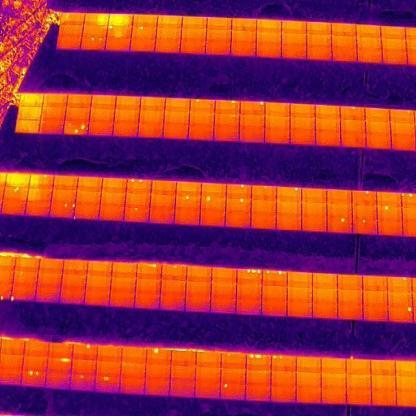Diode: (47, 358, 72, 374)
Hotspot: (221, 382, 246, 401), (124, 206, 150, 223), (352, 218, 378, 235), (272, 355, 297, 372), (96, 376, 121, 393), (176, 196, 202, 212), (136, 264, 162, 280), (160, 264, 186, 280), (262, 270, 288, 286), (388, 307, 414, 323), (221, 352, 247, 368), (73, 344, 97, 361), (277, 185, 302, 201), (3, 186, 28, 202), (247, 354, 272, 370), (346, 358, 371, 374), (240, 101, 266, 116), (352, 191, 378, 206), (237, 270, 263, 285), (386, 277, 412, 292), (50, 202, 74, 218), (22, 371, 46, 387), (71, 375, 95, 391), (127, 179, 152, 194), (226, 184, 251, 199), (226, 198, 251, 213), (75, 204, 100, 219), (190, 99, 216, 113), (390, 110, 416, 124), (63, 122, 89, 136), (251, 186, 277, 200), (126, 194, 152, 208), (200, 196, 226, 210), (376, 206, 402, 220), (326, 218, 352, 232), (12, 286, 36, 301), (80, 37, 107, 50), (215, 101, 240, 115), (340, 106, 365, 120), (146, 350, 171, 364), (131, 26, 157, 39), (30, 174, 54, 188), (214, 115, 239, 128), (107, 25, 132, 38)
Normal: (98, 204, 126, 221), (148, 208, 176, 225), (244, 384, 272, 401), (237, 284, 262, 302), (377, 219, 403, 236), (195, 382, 221, 399), (174, 210, 201, 226), (200, 210, 227, 226), (98, 344, 122, 362), (122, 346, 146, 364), (262, 285, 287, 302), (214, 128, 240, 144), (326, 189, 352, 205), (276, 200, 302, 216), (302, 202, 328, 218), (226, 212, 252, 228), (302, 218, 328, 234), (160, 280, 186, 296), (362, 292, 388, 308), (388, 292, 414, 308), (134, 294, 160, 310), (321, 358, 347, 374), (370, 360, 396, 376), (120, 363, 146, 379), (296, 372, 322, 388), (120, 378, 146, 394), (271, 386, 297, 402), (296, 388, 322, 404), (322, 388, 348, 404), (346, 389, 372, 405), (186, 297, 210, 314), (146, 379, 170, 396), (251, 214, 276, 230), (87, 262, 112, 278), (111, 263, 136, 279), (312, 274, 337, 290), (362, 275, 387, 291), (363, 306, 388, 322), (196, 352, 221, 368), (96, 362, 121, 378), (196, 367, 221, 383), (46, 374, 71, 390), (347, 374, 372, 390), (140, 97, 166, 112), (189, 112, 215, 127), (112, 123, 138, 138), (163, 125, 189, 140), (239, 129, 265, 144), (376, 191, 402, 206), (326, 204, 352, 219), (276, 216, 302, 231), (14, 258, 40, 273), (60, 289, 86, 304), (312, 290, 338, 305), (110, 292, 136, 307), (236, 301, 262, 316), (152, 180, 176, 196), (26, 200, 50, 216), (212, 283, 236, 299), (338, 290, 362, 306), (160, 296, 184, 312), (0, 355, 24, 371), (72, 360, 96, 376), (372, 390, 396, 406), (110, 278, 137, 292), (245, 370, 272, 384), (264, 117, 289, 132), (78, 176, 103, 191), (38, 259, 63, 274), (288, 274, 313, 289), (186, 282, 211, 297), (338, 306, 363, 321), (371, 376, 396, 391), (0, 370, 23, 386), (66, 95, 92, 109), (42, 95, 68, 109), (16, 106, 42, 120), (40, 108, 66, 122), (290, 118, 316, 132), (340, 121, 366, 135), (188, 128, 214, 142), (264, 132, 290, 146), (340, 134, 366, 148), (52, 176, 78, 190), (60, 12, 86, 26), (176, 182, 202, 196), (301, 188, 327, 202), (100, 192, 126, 206), (62, 262, 88, 276), (36, 274, 62, 288), (86, 278, 112, 292), (136, 280, 162, 294), (35, 288, 61, 302), (286, 289, 312, 303), (84, 292, 110, 306), (24, 342, 50, 356), (296, 358, 322, 372), (271, 372, 297, 386), (321, 374, 347, 388), (281, 45, 307, 59), (307, 46, 333, 60), (357, 48, 383, 62), (266, 103, 290, 118), (212, 268, 236, 283), (149, 195, 176, 208), (91, 96, 116, 110), (115, 96, 140, 110), (165, 99, 190, 113), (315, 106, 340, 120), (88, 122, 113, 136), (391, 136, 416, 150), (102, 178, 127, 192), (252, 200, 277, 214), (182, 16, 207, 30), (232, 18, 257, 32), (13, 272, 38, 286), (307, 22, 332, 36), (211, 300, 236, 314), (262, 302, 287, 316), (287, 304, 312, 318), (313, 306, 338, 320), (23, 356, 48, 370), (171, 366, 196, 380), (221, 369, 246, 383), (171, 380, 196, 394), (181, 40, 206, 54), (290, 105, 316, 118), (90, 109, 116, 122), (364, 109, 390, 122), (163, 113, 189, 126), (356, 25, 382, 38), (130, 38, 156, 51), (382, 51, 408, 64), (6, 173, 30, 187), (187, 268, 211, 282), (338, 276, 362, 290), (0, 340, 24, 354), (172, 352, 196, 366), (146, 365, 170, 379), (114, 110, 139, 123), (315, 121, 340, 134), (365, 123, 390, 136), (201, 183, 226, 196), (76, 190, 101, 203), (207, 17, 232, 30), (257, 31, 282, 44), (57, 36, 82, 49), (206, 40, 231, 53), (333, 47, 358, 60), (20, 94, 44, 107), (65, 109, 91, 121), (140, 112, 164, 125), (39, 121, 65, 133), (390, 124, 416, 136), (138, 126, 164, 138), (290, 133, 316, 145), (315, 134, 341, 146), (366, 136, 392, 148), (352, 206, 378, 218), (158, 16, 182, 29), (282, 21, 306, 34), (61, 276, 87, 288), (82, 25, 108, 37), (380, 28, 406, 40), (156, 28, 182, 40), (48, 344, 74, 356), (281, 34, 307, 46), (306, 34, 332, 46), (105, 38, 131, 50), (156, 40, 182, 52), (256, 43, 282, 55), (240, 116, 265, 128), (28, 188, 53, 200), (84, 14, 109, 26), (108, 14, 133, 26), (51, 190, 76, 202), (1, 202, 26, 214), (332, 36, 357, 48), (16, 120, 40, 132), (133, 14, 157, 26), (332, 24, 356, 36), (182, 29, 206, 41), (256, 20, 282, 31), (58, 26, 84, 37), (356, 38, 382, 49), (382, 39, 408, 50), (230, 42, 256, 53), (206, 30, 232, 40), (232, 30, 256, 40)
